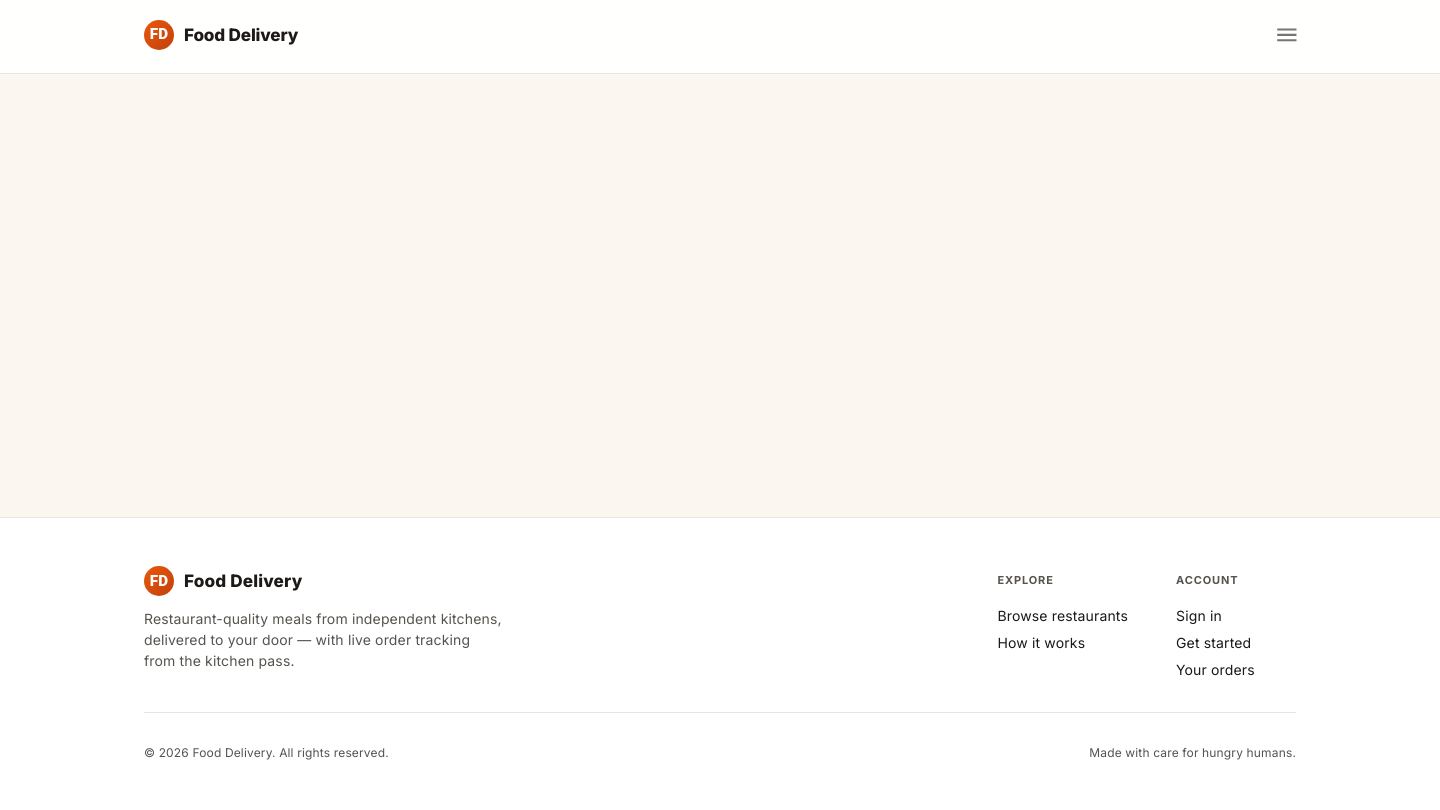
App mobile header › opens the drawer with customer links when signed in
The image size is (1440, 810).
Click the button named "open navigation menu" at coordinates (1287, 35), box [1266,14,1308,56]
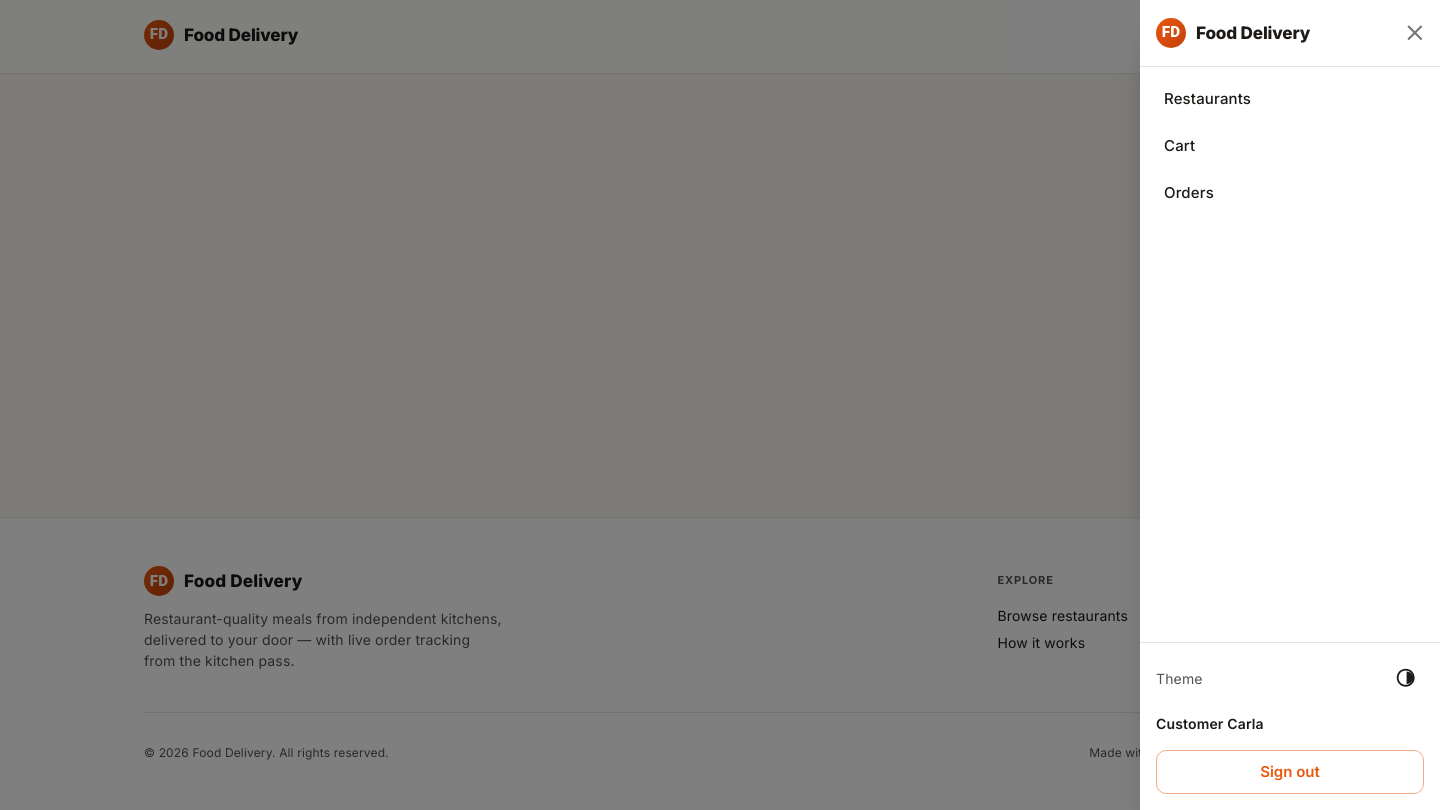
Result: the link "Cart" is shown at [1164,136,1195,155]
Result: the link "Orders" is shown at [1164,183,1214,202]
Result: the text "Customer Carla" is shown at [1156,713,1264,734]
